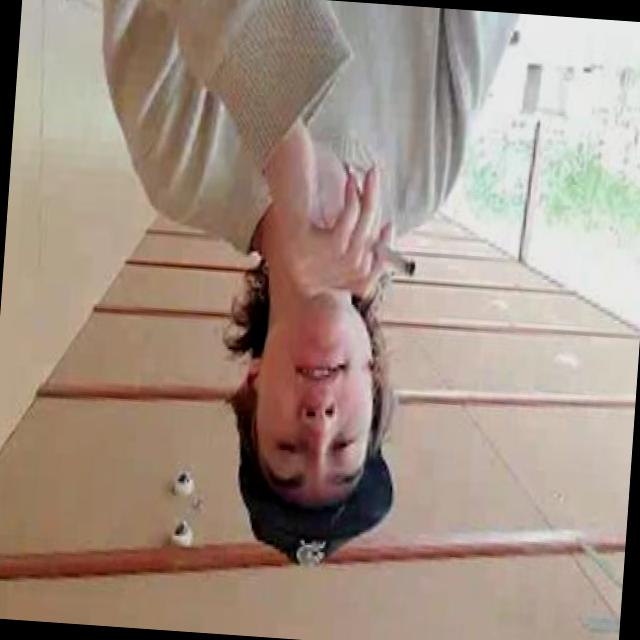cigarette: (359, 226, 426, 292)
